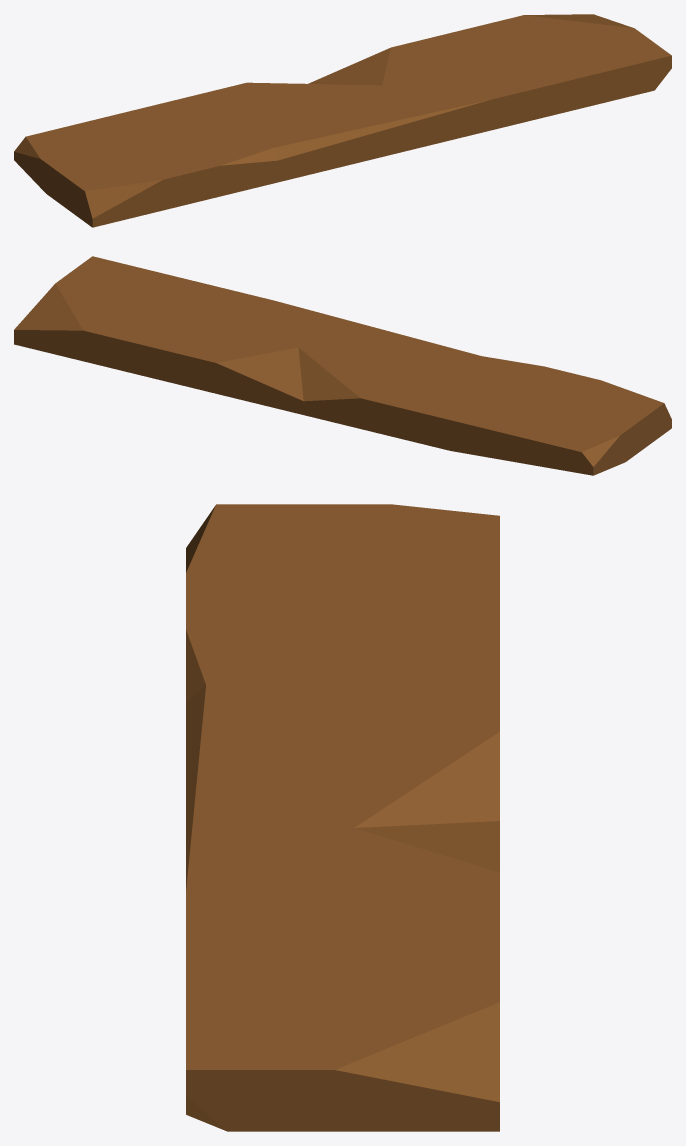
File: Wood.fbx
3 views of the same model, one above another, from view 1: azimuth 30°, elevation 25°; view 2: azimuth 150°, elevation 25°; view 3: azimuth 270°, elevation 25° (orthographic). The views are drawn at different scales.
Visible parts, largest first — view 1: Wood.001; view 2: Wood.001; view 3: Wood.001.
Boxes of the visible parts, box(x1,y1,x2,y2) form: Wood.001: box(14, 14, 671, 227); Wood.001: box(14, 256, 671, 475); Wood.001: box(186, 504, 499, 1131).
Bounding box in the file's own units: 127 × 6.46 × 29.89.
